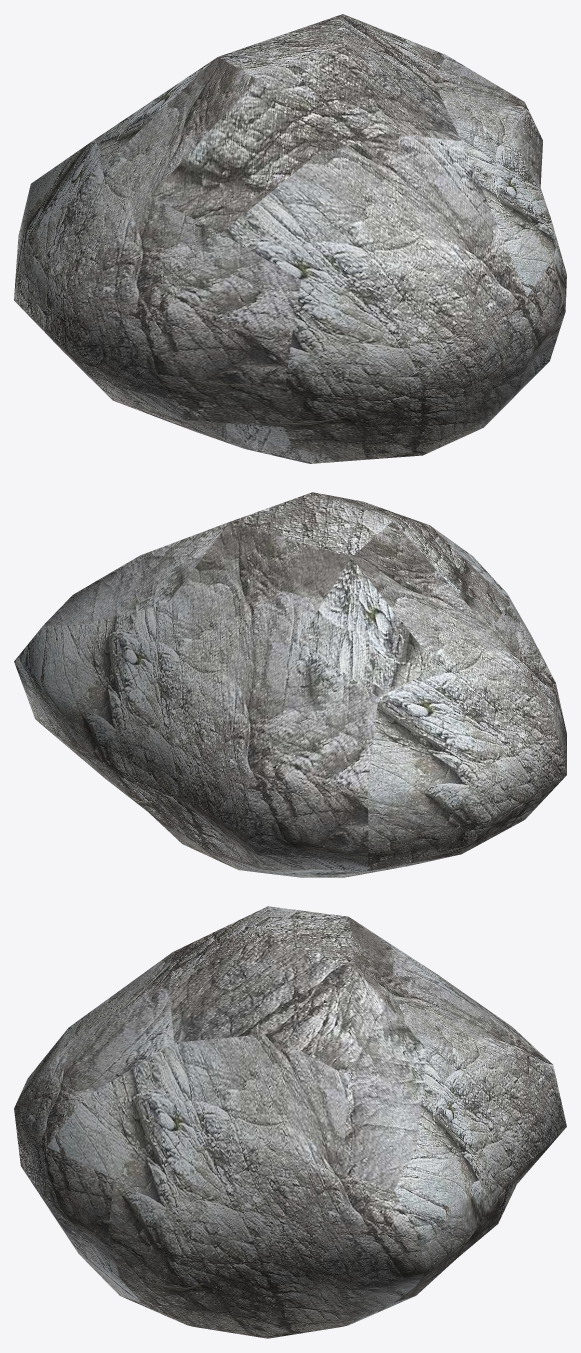
Rendered from ColladaTest.dae.
The picture shows the model from 3 angles, top to bottom: view 1: azimuth 30°, elevation 25°; view 2: azimuth 150°, elevation 25°; view 3: azimuth 270°, elevation 25°; orthographic projection. The views are drawn at different scales.
Visible parts, largest first — view 1: ColladaTestStoneStatic-Pivot; view 2: ColladaTestStoneStatic-Pivot; view 3: ColladaTestStoneStatic-Pivot.
Boxes of the visible parts, <box> form: ColladaTestStoneStatic-Pivot: <box>14,14,566,463</box>; ColladaTestStoneStatic-Pivot: <box>14,492,566,877</box>; ColladaTestStoneStatic-Pivot: <box>14,906,566,1338</box>.
Bounding box in the file's own units: 4.7 × 4.47 × 3.33.
1 material, 1 textured.
